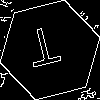T: (25, 25, 65, 77)
